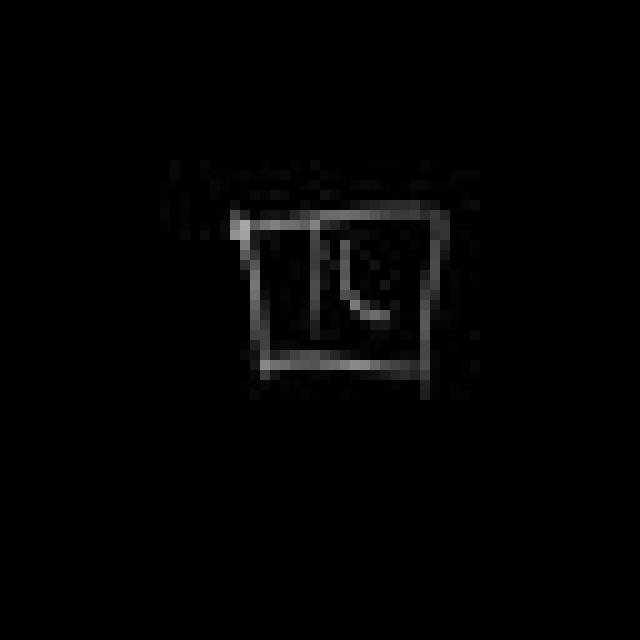4 -four-: (214, 194, 455, 397)
